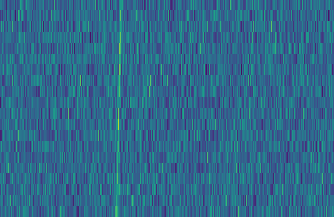signal: (110, 0, 123, 217)
